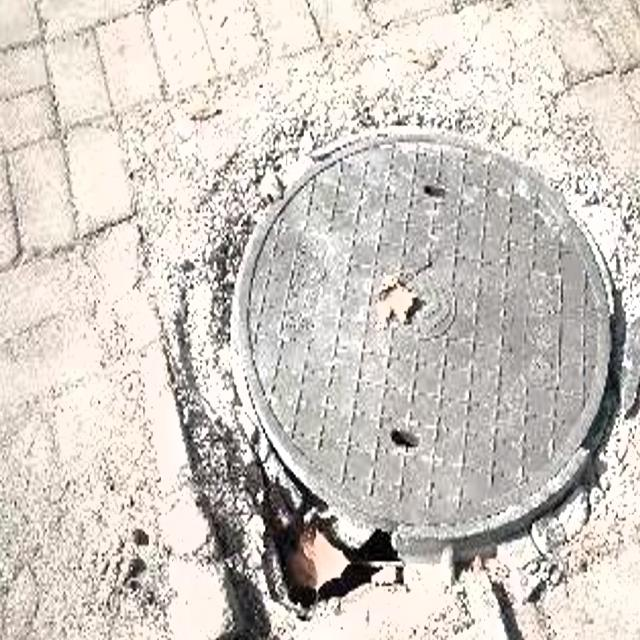circle: (163, 98, 640, 599)
